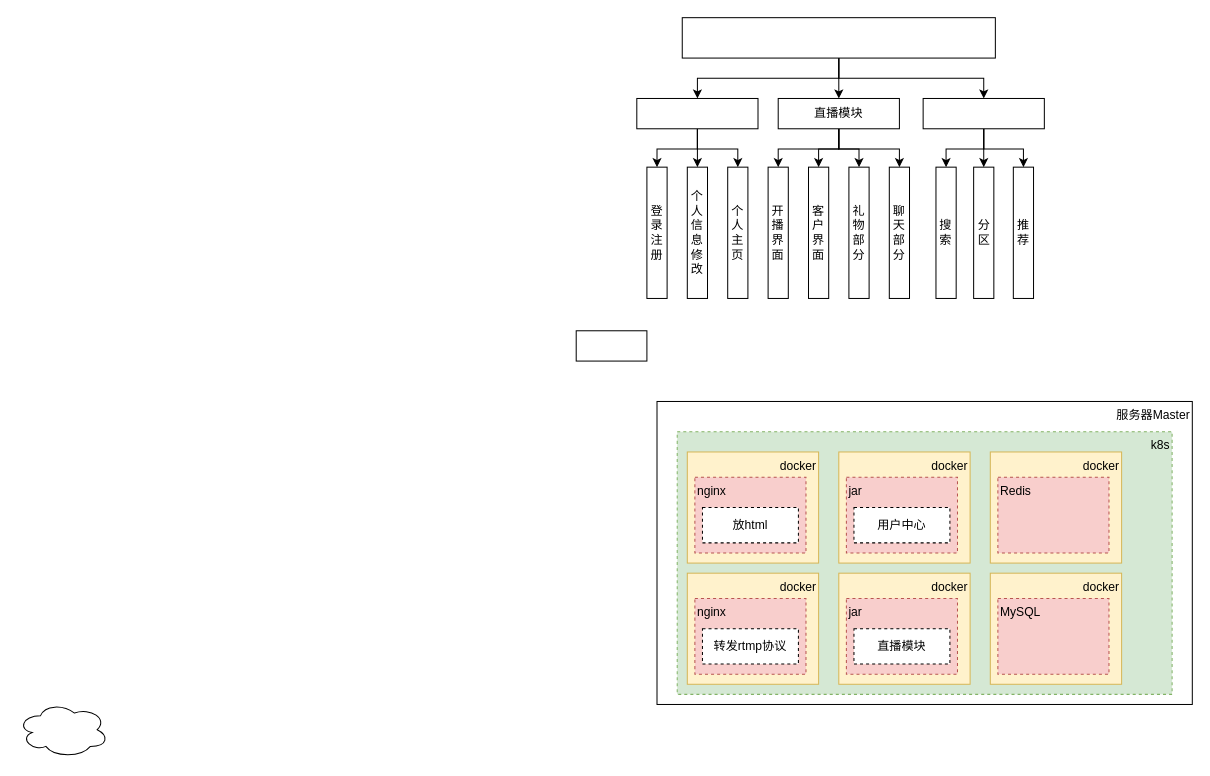
This 1210x776 diagram has some shape labels left out. The centre of each missing label's shape, as x and y in pixels:
internet: point (63, 729)
oauth2/jwt: point (611, 345)
主页模块: point (983, 113)
用户模块: point (697, 113)
线上直播系统: point (838, 37)
